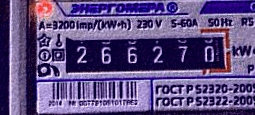0: (201, 43, 216, 63)
2: (74, 44, 88, 65), (151, 44, 165, 64)
6: (99, 44, 112, 65), (125, 45, 139, 64)
7: (177, 43, 188, 63)
screen: (53, 23, 237, 82)
